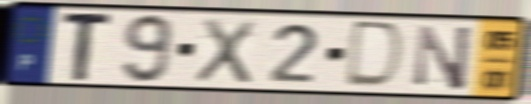2: (267, 22, 322, 86)
9: (120, 11, 175, 86)
D: (341, 18, 408, 92)
N: (412, 23, 474, 93)
T: (59, 10, 117, 84)
X: (191, 16, 258, 87)
